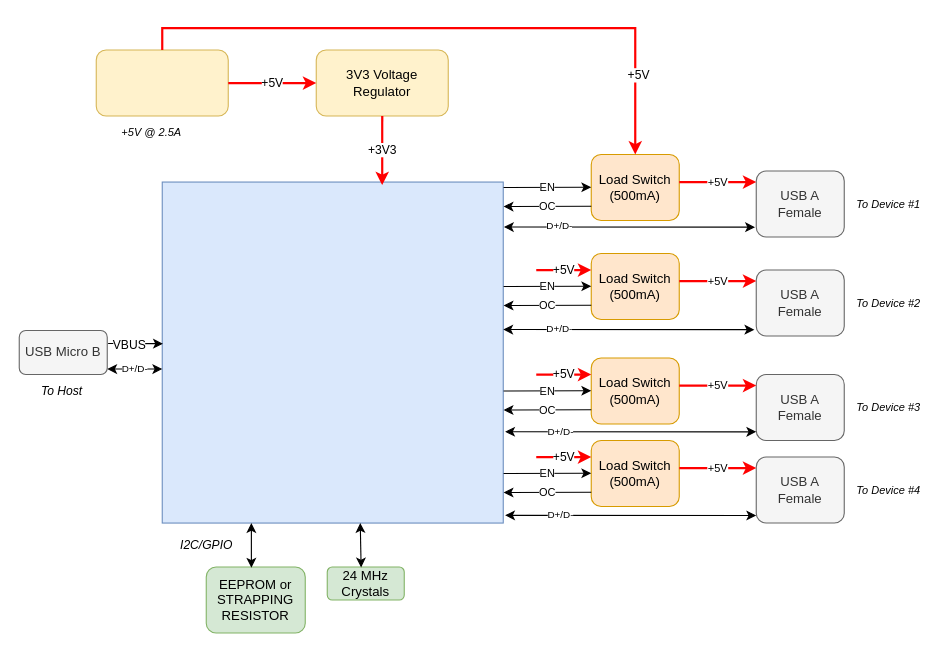
Image size: 952x652. Some labels were removed from this diagram. Here are the shapes that lost their labels. From the top down, the centre of each, then its label:
At point (161, 82): "DC Supply 5V Jack".
At point (332, 352): "USB 2.0 HS (4X) USB2514".
